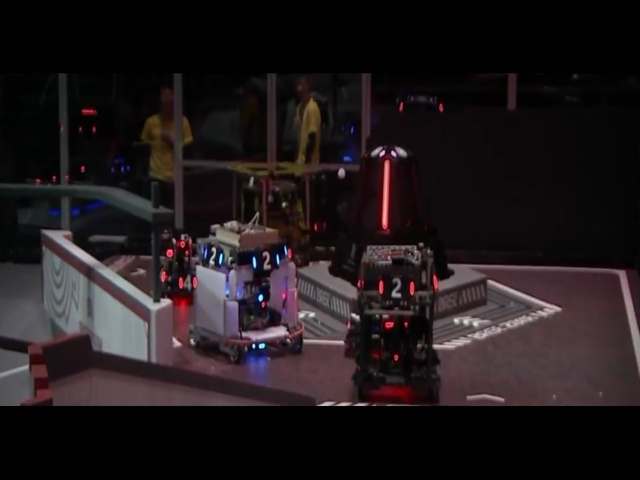bluePlate: (351, 223, 397, 251), (349, 375, 381, 410), (433, 219, 456, 251)
redPlate: (207, 307, 260, 347), (294, 298, 319, 336)
